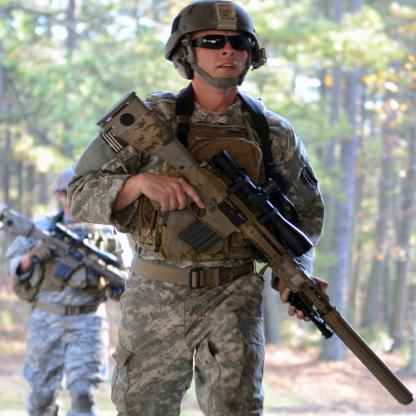Helmet: (158, 7, 268, 98), (50, 167, 74, 190)
